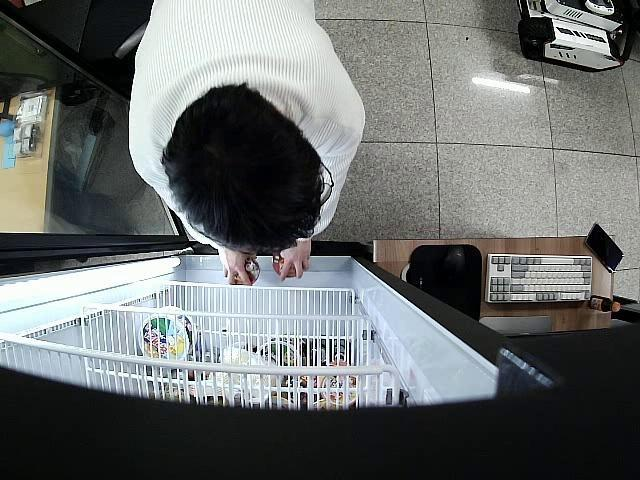06_nuguri_S: (272, 252, 304, 278), (231, 258, 260, 286)
